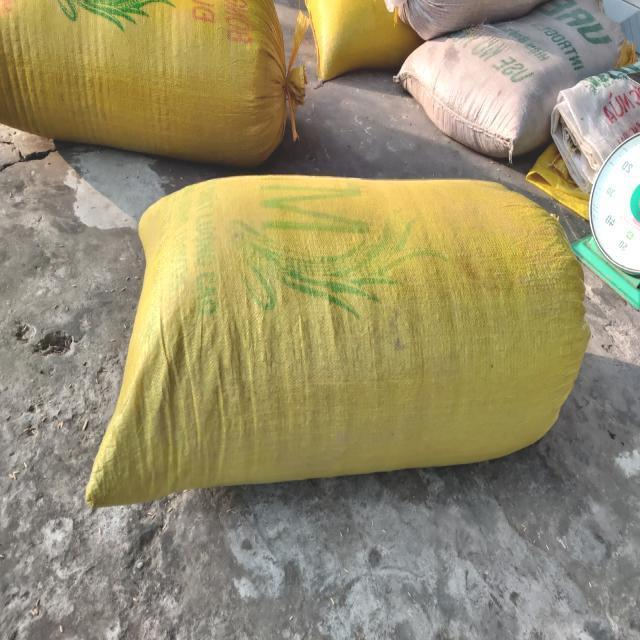gunny_bag: (86, 175, 590, 507)
